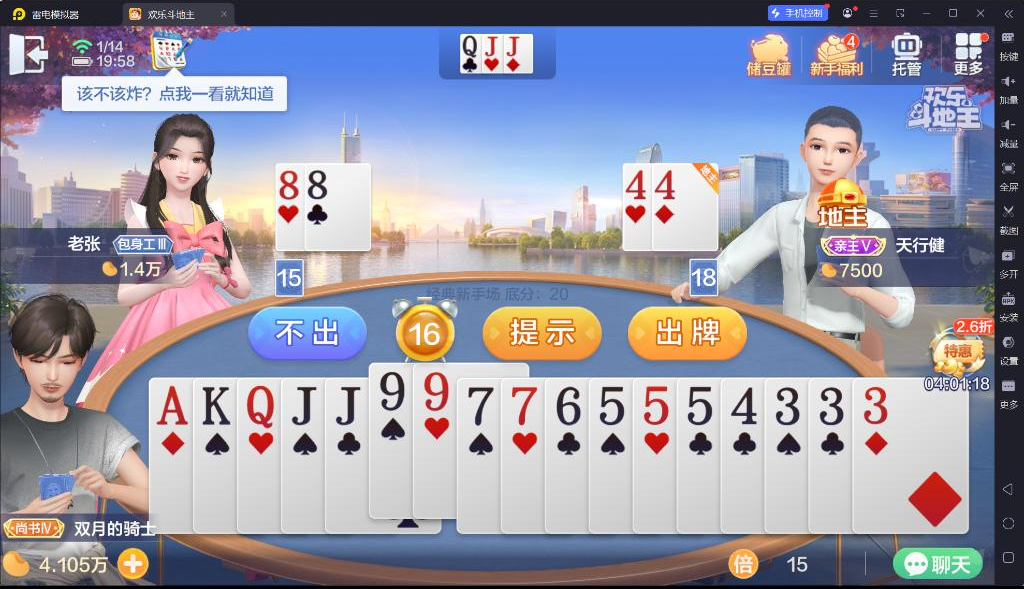A: (153, 383, 191, 429)
J: (287, 383, 321, 427), (333, 384, 364, 426), (483, 35, 499, 58), (505, 35, 520, 58)
K: (198, 383, 235, 429)
Q: (242, 383, 276, 429), (461, 35, 479, 58)
eight: (277, 169, 301, 201), (305, 169, 328, 201)
five: (593, 382, 627, 428), (682, 381, 716, 427), (639, 383, 673, 426)
four: (727, 383, 761, 427), (623, 169, 650, 202), (653, 168, 677, 202)
nine: (419, 371, 452, 414), (376, 370, 407, 414)
seven: (465, 385, 497, 428), (508, 383, 538, 426)
six: (550, 383, 582, 427)
three: (814, 385, 847, 427), (771, 385, 803, 428), (858, 384, 890, 426)
